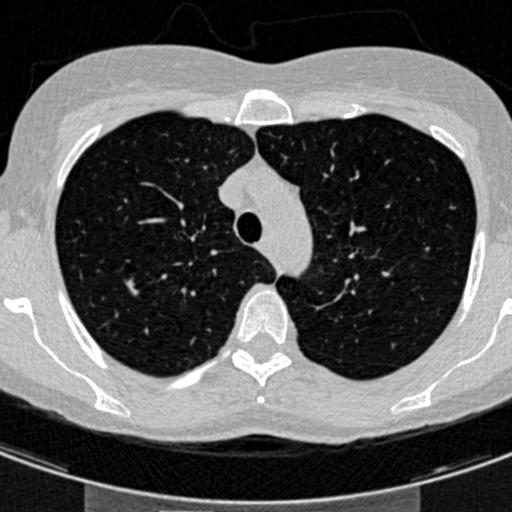nodule: (122, 278, 142, 298)
